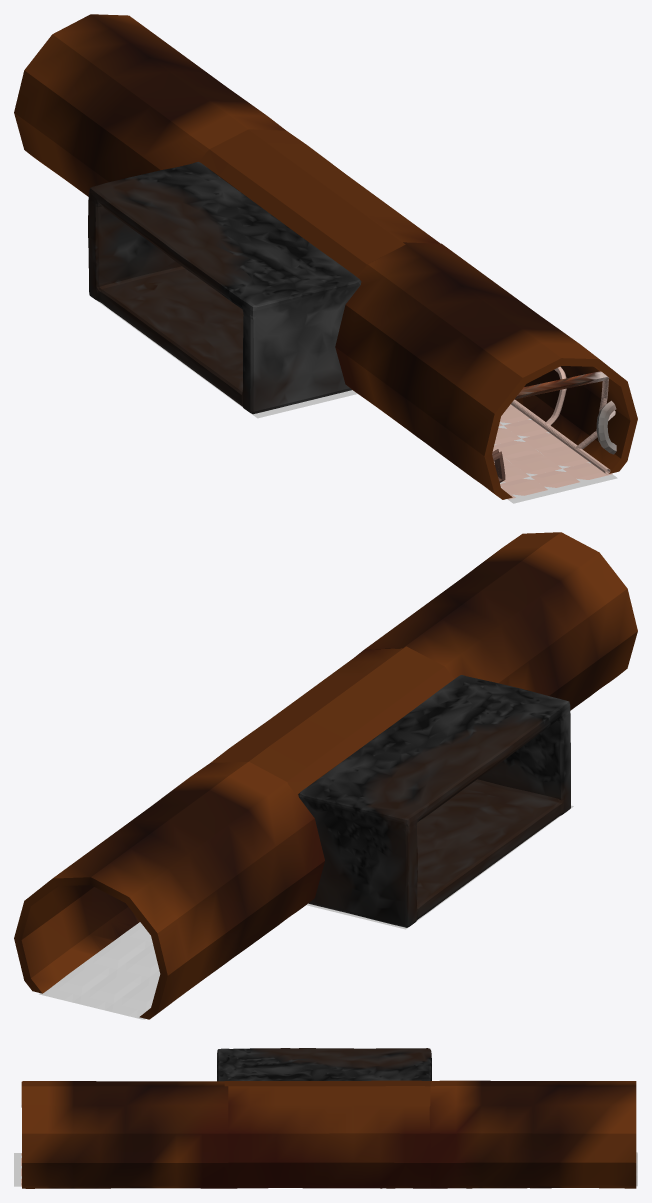
File: Quai.fbx
3 views of the same model, one above another, from view 1: azimuth 30°, elevation 25°; view 2: azimuth 150°, elevation 25°; view 3: azimuth 270°, elevation 25° (orthographic). The views are drawn at different scales.
Parts seen in each view (by area): view 1: Boîte, Tube 21, Cylindre 9, Cylindre 7, Tube 20, Tube 22, Plan, Plan 1; view 2: Boîte, Cylindre 9, Tube 21, Cylindre 7, Cylindre 1; view 3: Tube 21, Cylindre 9, Cylindre 7, Boîte, Plan.
Part boxes in pixels (left/top/right/bottom): Boîte: left=88, top=161, right=361, bottom=414; Tube 21: left=335, top=242, right=637, bottom=499; Cylindre 9: left=14, top=14, right=286, bottom=196; Cylindre 7: left=199, top=129, right=440, bottom=277; Tube 20: left=492, top=366, right=616, bottom=499; Tube 22: left=492, top=368, right=609, bottom=482; Plan: left=494, top=419, right=617, bottom=503; Plan 1: left=96, top=300, right=357, bottom=418; Boîte: left=298, top=675, right=570, bottom=927; Cylindre 9: left=14, top=762, right=324, bottom=1019; Tube 21: left=358, top=532, right=637, bottom=710; Cylindre 7: left=210, top=646, right=454, bottom=794; Cylindre 1: left=40, top=922, right=160, bottom=1019; Tube 21: left=21, top=1081, right=228, bottom=1188; Cylindre 9: left=429, top=1080, right=636, bottom=1188; Cylindre 7: left=224, top=1080, right=430, bottom=1188; Boîte: left=217, top=1048, right=431, bottom=1081; Plan: left=14, top=1153, right=21, bottom=1186.
Bounding box in the file's own units: 7.07 × 3.65 × 24.51.
